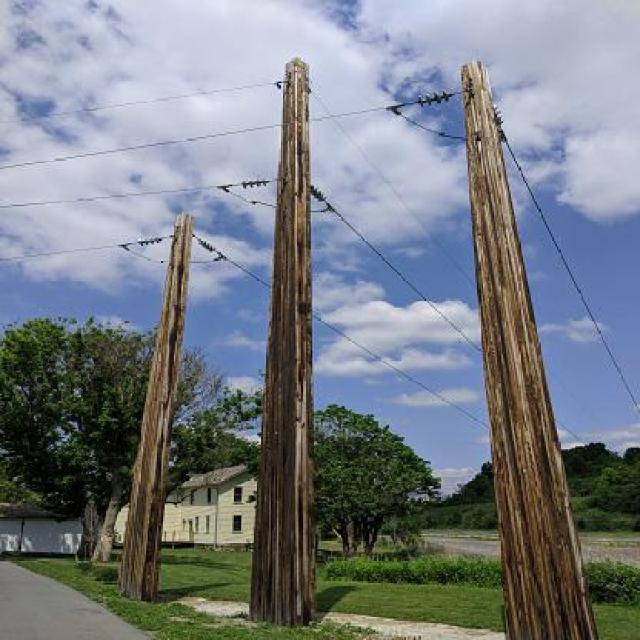light_pole: (448, 53, 614, 640), (266, 48, 337, 638), (128, 201, 185, 640)
